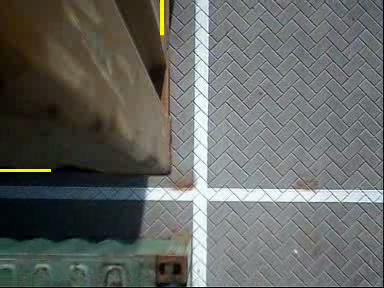groundmarker_2: (154, 135, 245, 191)
